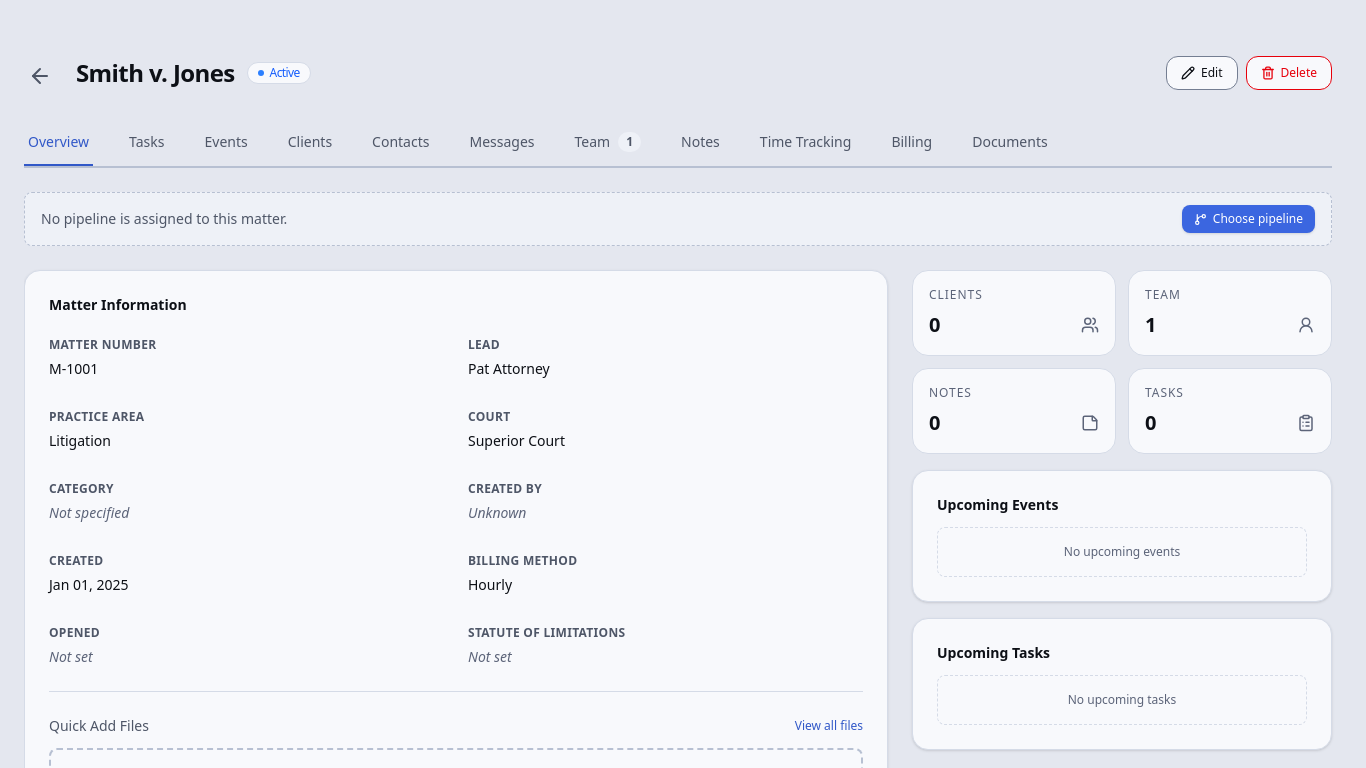
Scenario: a refused action: the delete fails › tells the user the matter was not deleted, and stays on the page
Expected: the heading "Smith v. Jones Active" is shown, [76,56,311,89]
Click the button "Delete".
click(1289, 73)  # box [1246,56,1332,90]
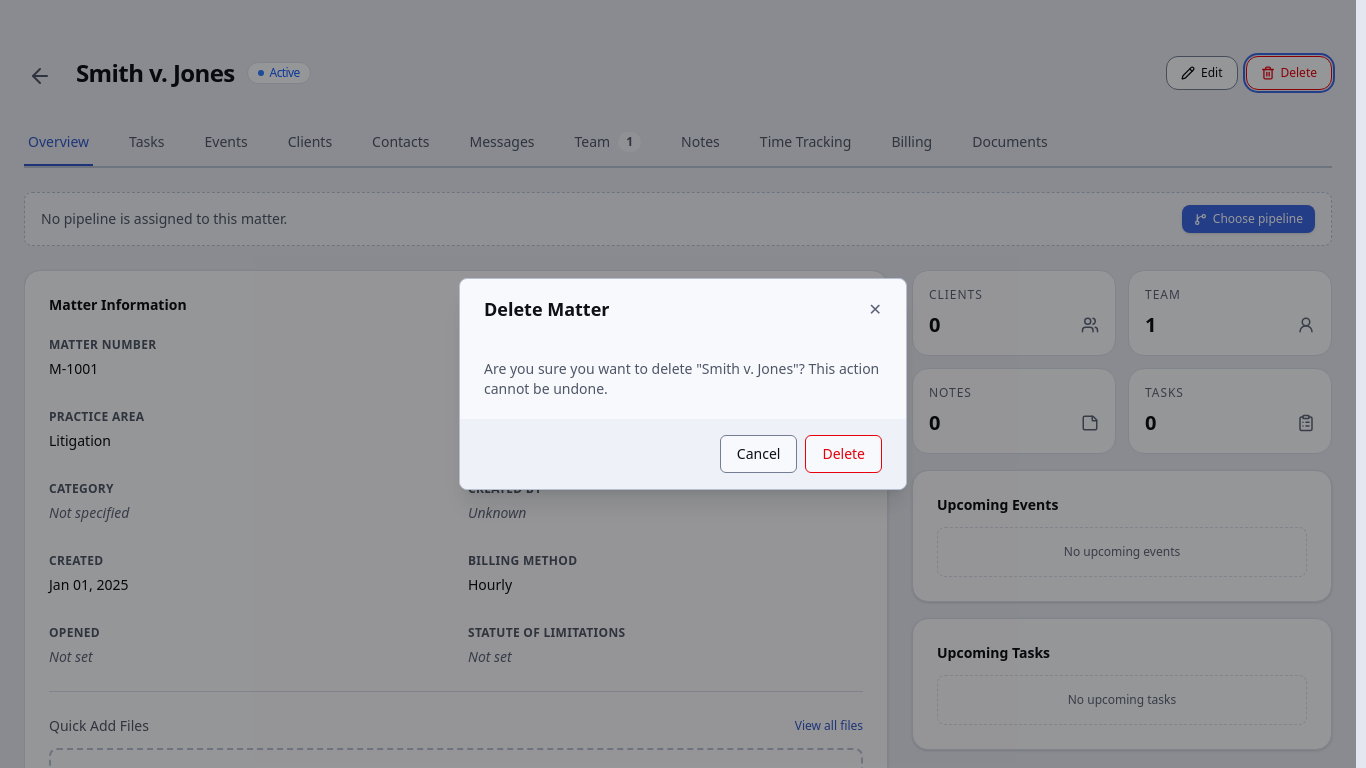
Click the button "Delete".
click(844, 454)  # box [805,435,882,473]
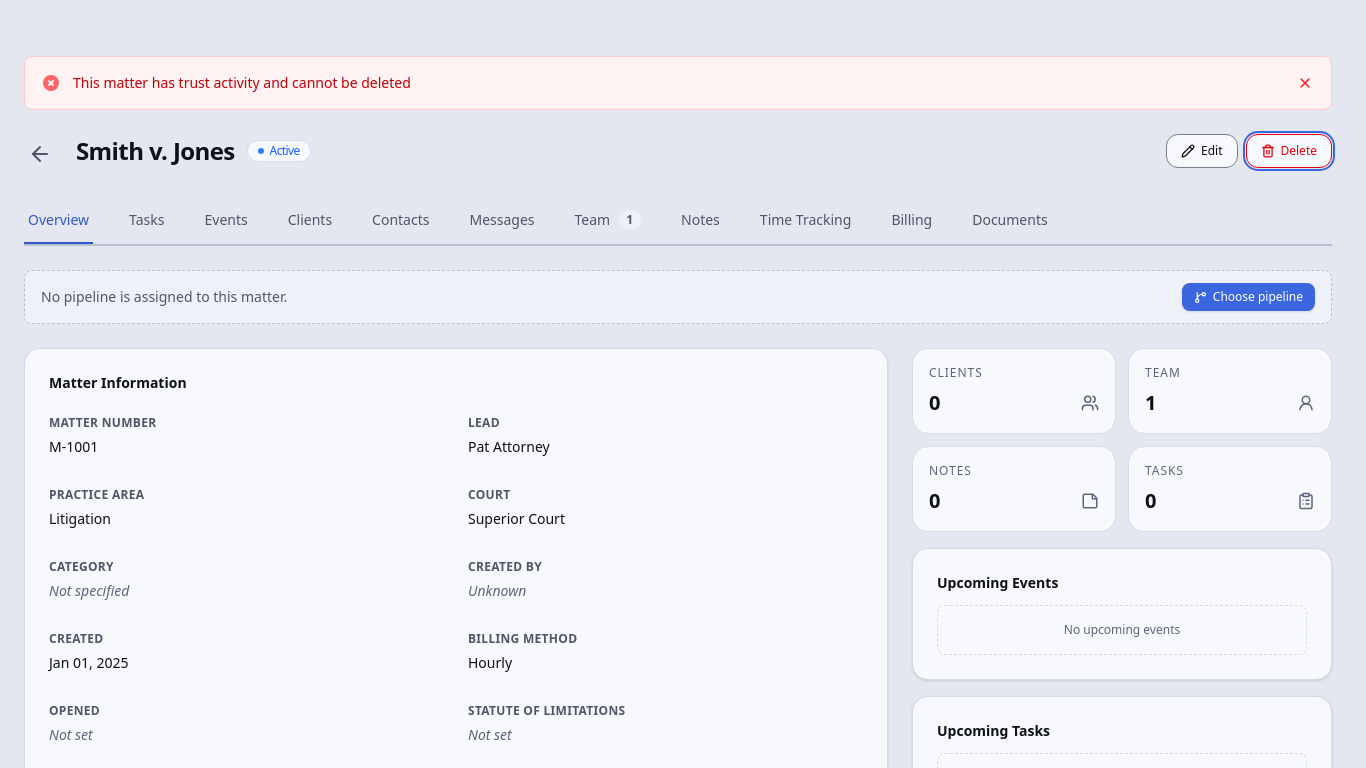
Expected: the heading "Smith v. Jones Active" is shown, [76,134,311,167]
Expected: the text "This matter has trust activity and cannot be deleted" is shown, [73,73,411,92]
